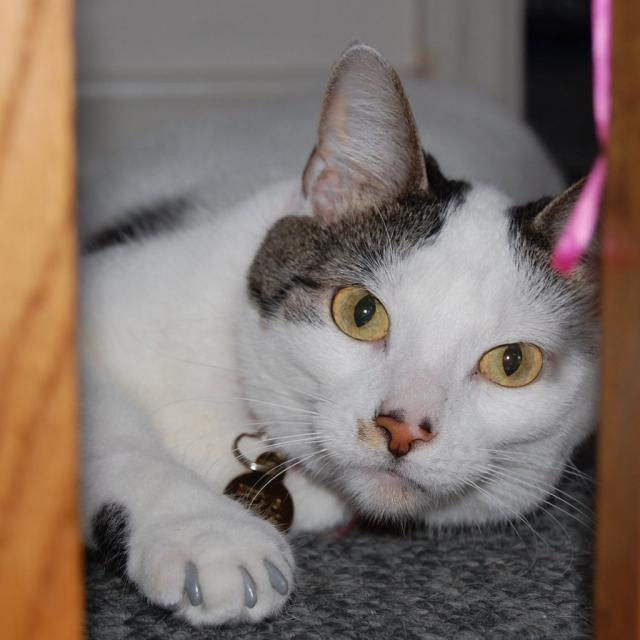Cat: (77, 42, 610, 632)
